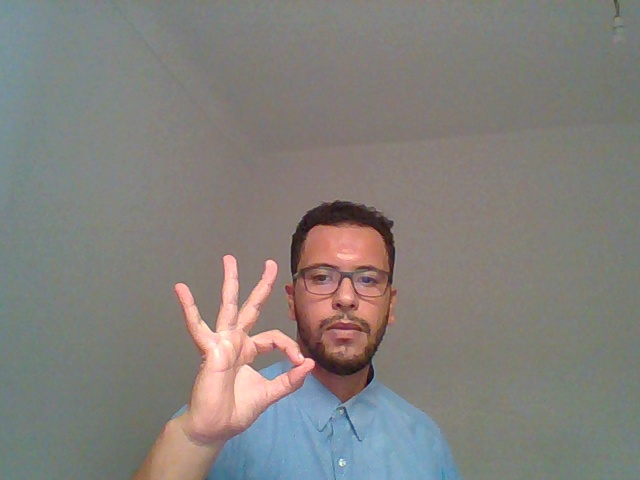okay: (149, 233, 316, 455)
